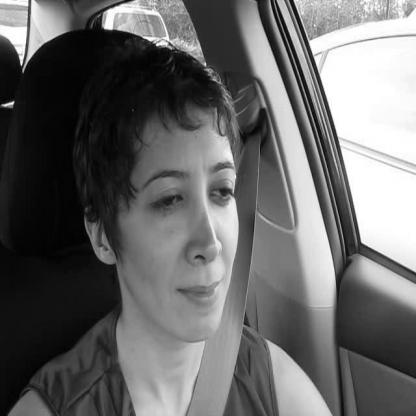seatbelt: (73, 37, 250, 416)
